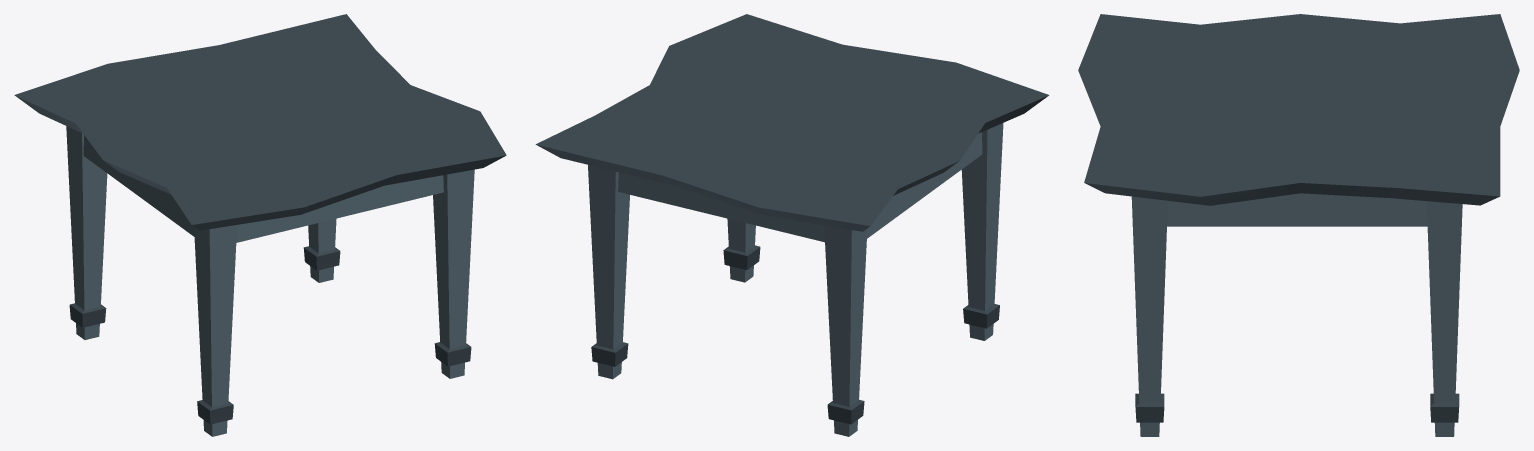
The model's file is Mesa1S.fbx.
3 renders of one model, left to right at view 1: azimuth 30°, elevation 25°; view 2: azimuth 150°, elevation 25°; view 3: azimuth 270°, elevation 25°, orthographic. The views are drawn at different scales.
Visible parts, largest first — view 1: Mesa1S; view 2: Mesa1S; view 3: Mesa1S.
Boxes of the visible parts, box(x1,y1,x2,y2) form: Mesa1S: box(14, 14, 506, 436); Mesa1S: box(535, 14, 1049, 436); Mesa1S: box(1078, 14, 1519, 436).
Bounding box in the file's own units: 156 × 105 × 159.
